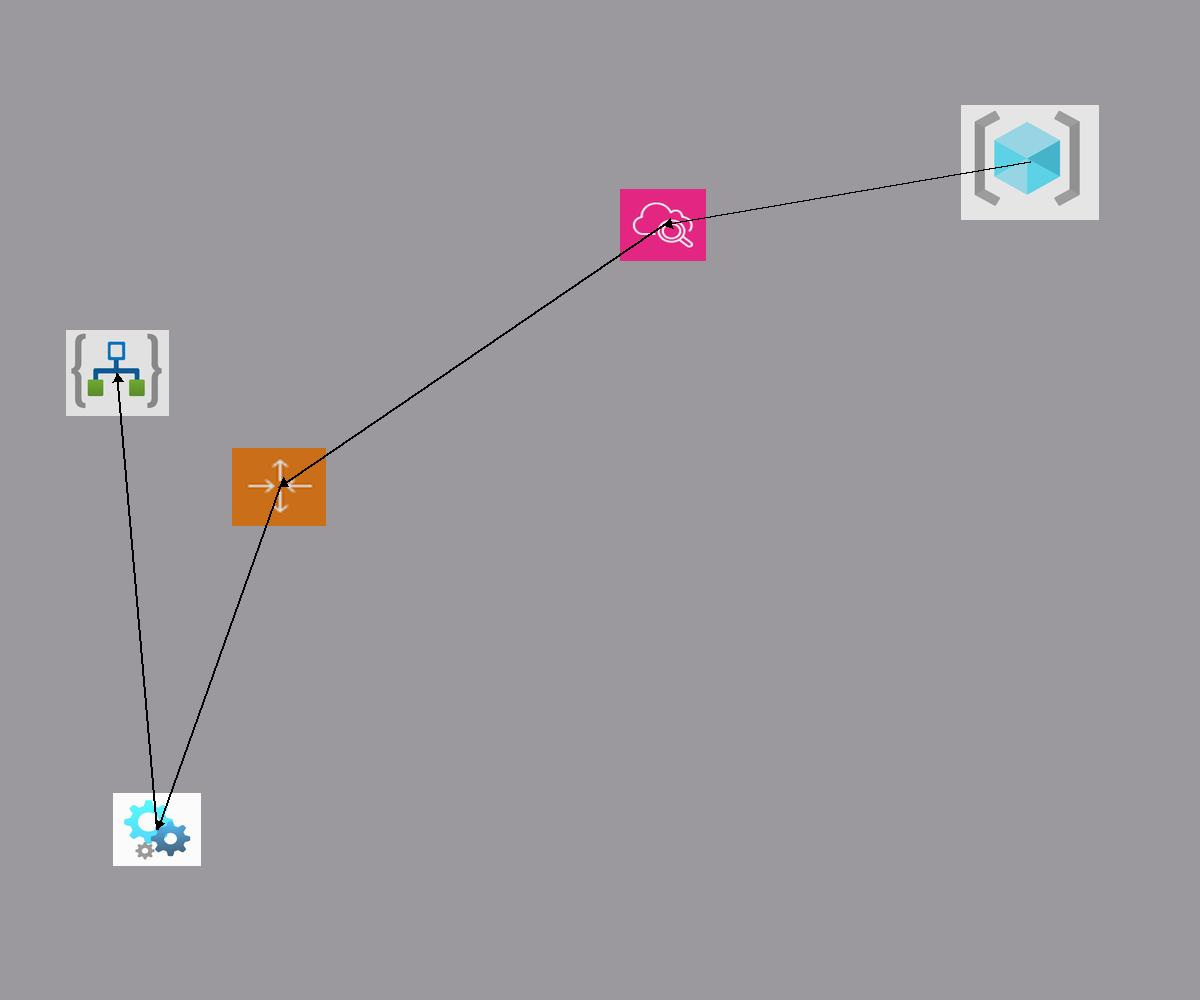AWS-CloudWatch: (620, 189, 706, 261)
AWS-Scaling-group: (232, 448, 326, 526)
Azure_api: (113, 793, 201, 866)
Azure_integration-204-Logic-Apps: (66, 330, 169, 416)
Azure_resource_group: (961, 105, 1099, 220)
